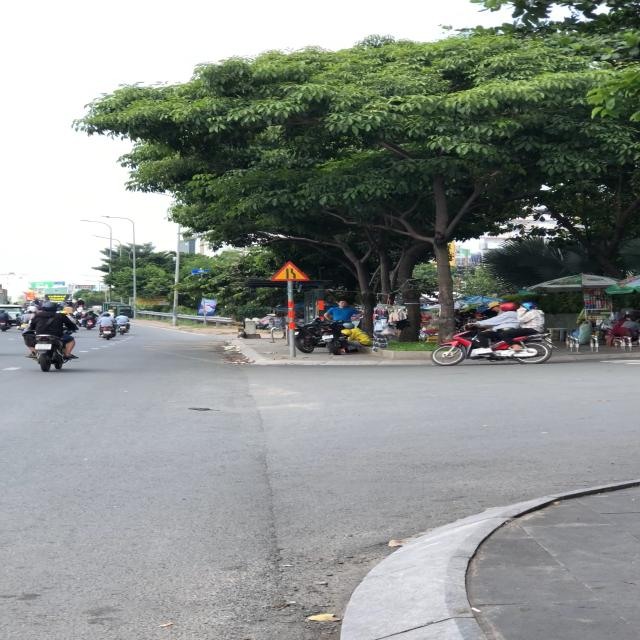Bien bao duong bi thu hep: (270, 260, 314, 281)
